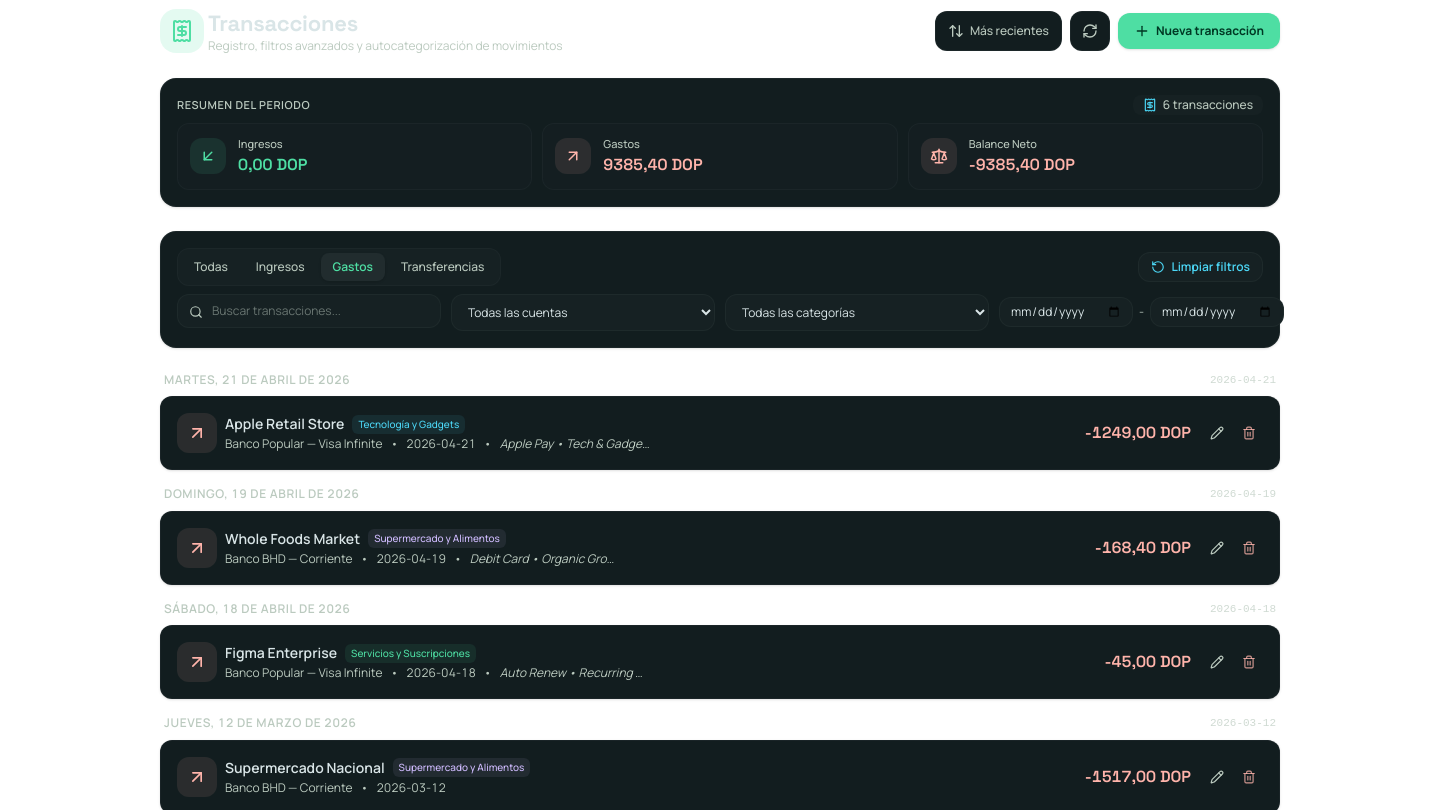
TransactionsPage Integration › opens new transaction modal when clicking Nueva Transacción button
What coordinates should you click on to do the following:
click the button "Nueva transacción"
I would click on:
 (1199, 31)
Its box is [1118,13,1280,49].
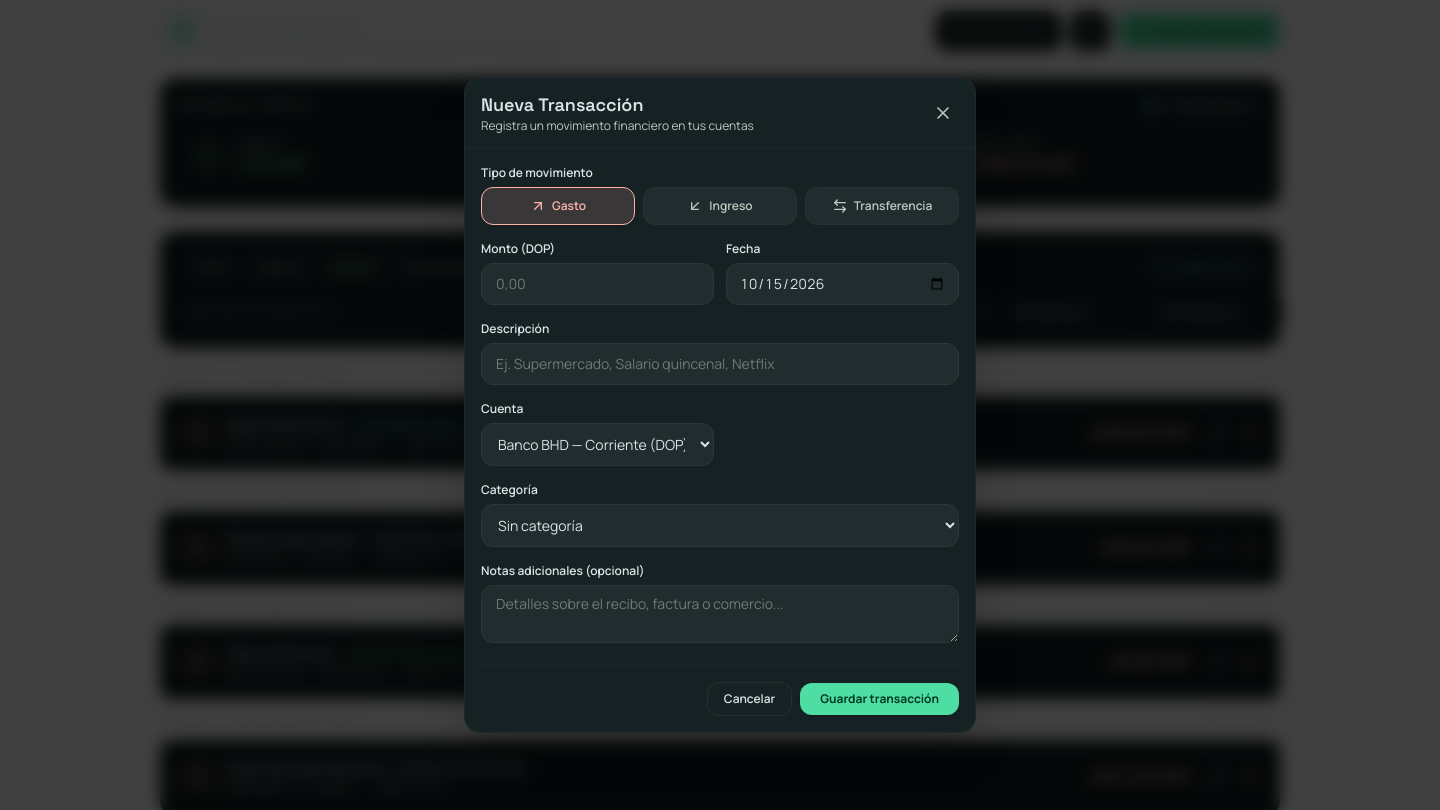
Now the heading "Nueva Transacción" is shown, box [481,93,644,116]
